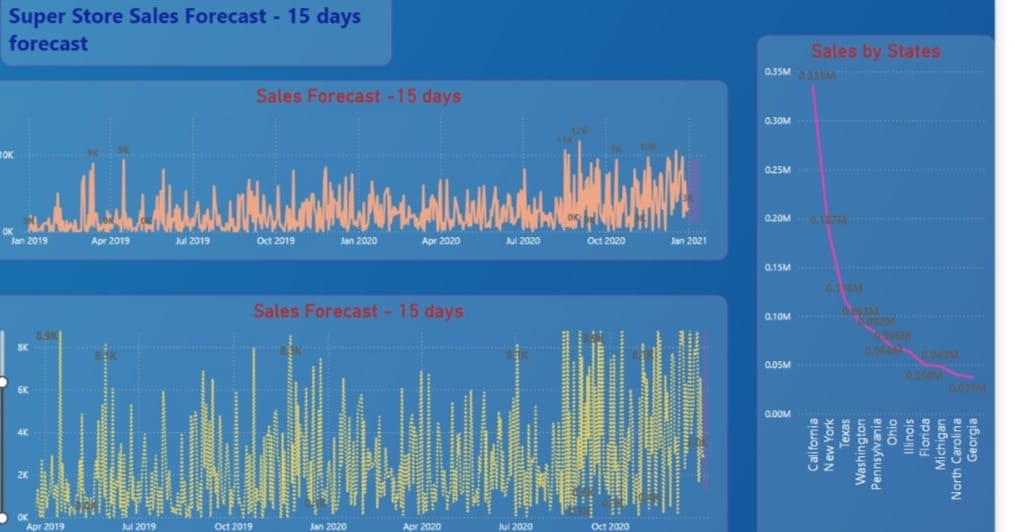

What the dashboard file says about the page in this screenshot:
{"tool":"powerbi","page":{"name":"Page 2","canvas":[1280,720],"ordinal":1},"visuals":[{"type":"lineChart","title":"Sales Forecast - 15 days","fields":{"Y":["Sum(SuperStore_Sales_Dataset (1).Sales)"],"Category":["SuperStore_Sales_Dataset (1).Order Date"]},"box":[1.6,359.5,940.1,335.6],"z":0},{"type":"lineChart","title":"Sales Forecast -15 days","fields":{"Y":["Sum(SuperStore_Sales_Dataset (1).Sales)"],"Category":["SuperStore_Sales_Dataset (1).Order Date"]},"box":[0,110.9,940.6,229.7],"z":1000},{"type":"lineChart","title":"Sales by States","fields":{"Category":["SuperStore_Sales_Dataset (1).State"],"Y":["Sum(SuperStore_Sales_Dataset (1).Sales)"]},"box":[976.6,54.1,303.8,666.5],"z":2000},{"type":"textbox","box":[14.1,0,498.4,93.8],"z":3000}]}

Visuals, with their boxes on the page's 1280x720 design canvas (x1, y1, x2, y2). These are canvas units, not pixel positions in the 1015x532 screenshot, which may show the page scaled, cropped or inside an application window:
"Sales Forecast - 15 days" lineChart: (x1=2, y1=360, x2=942, y2=695)
"Sales Forecast -15 days" lineChart: (x1=0, y1=111, x2=941, y2=341)
"Sales by States" lineChart: (x1=977, y1=54, x2=1280, y2=721)
textbox: (x1=14, y1=0, x2=512, y2=94)
